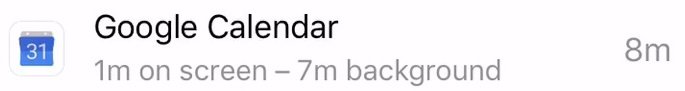name: (88, 5, 345, 46)
time: (296, 52, 344, 91), (91, 52, 137, 91)
